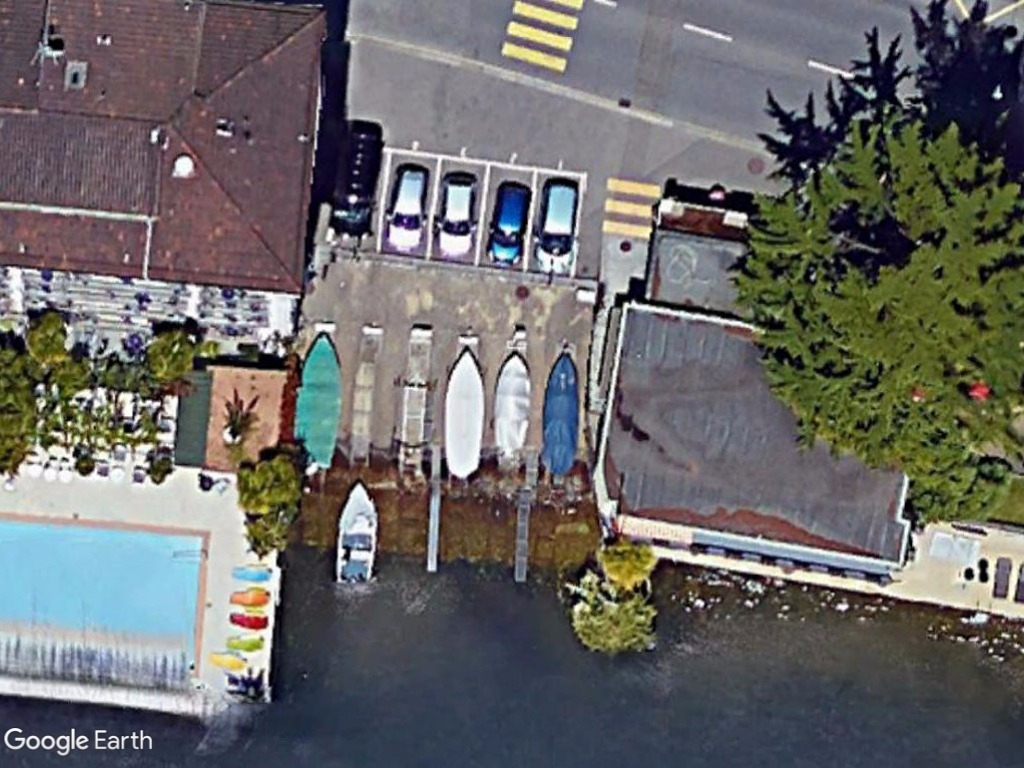boat: (539, 341, 590, 486), (439, 343, 487, 484), (490, 348, 536, 473)
car: (530, 178, 583, 278), (479, 177, 536, 267), (380, 155, 431, 254), (434, 165, 483, 263)
